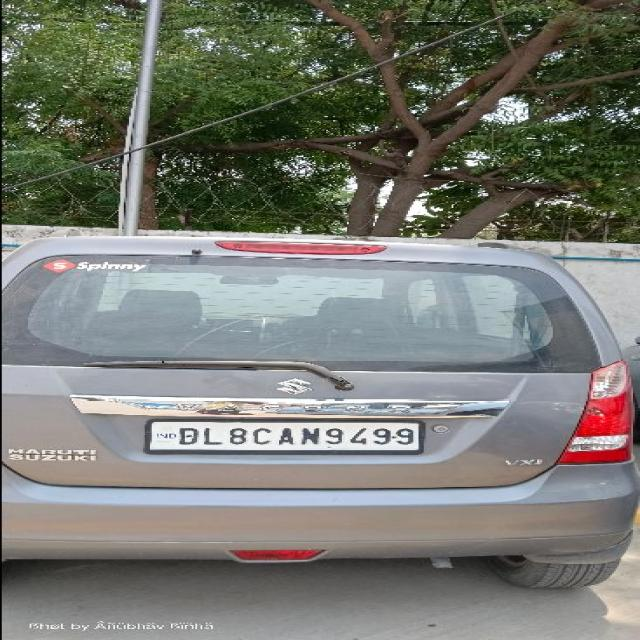license_plate: (143, 418, 426, 453)
